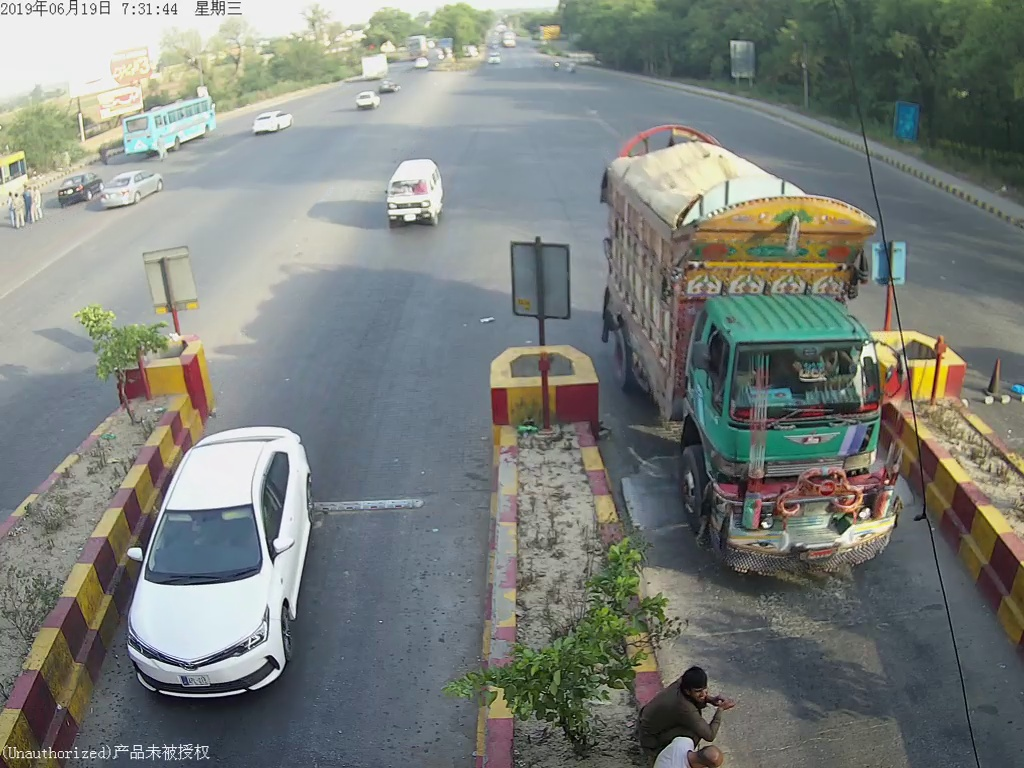Cat-1: (124, 424, 319, 705), (363, 159, 454, 232)
Cat-4: (658, 179, 902, 591)
